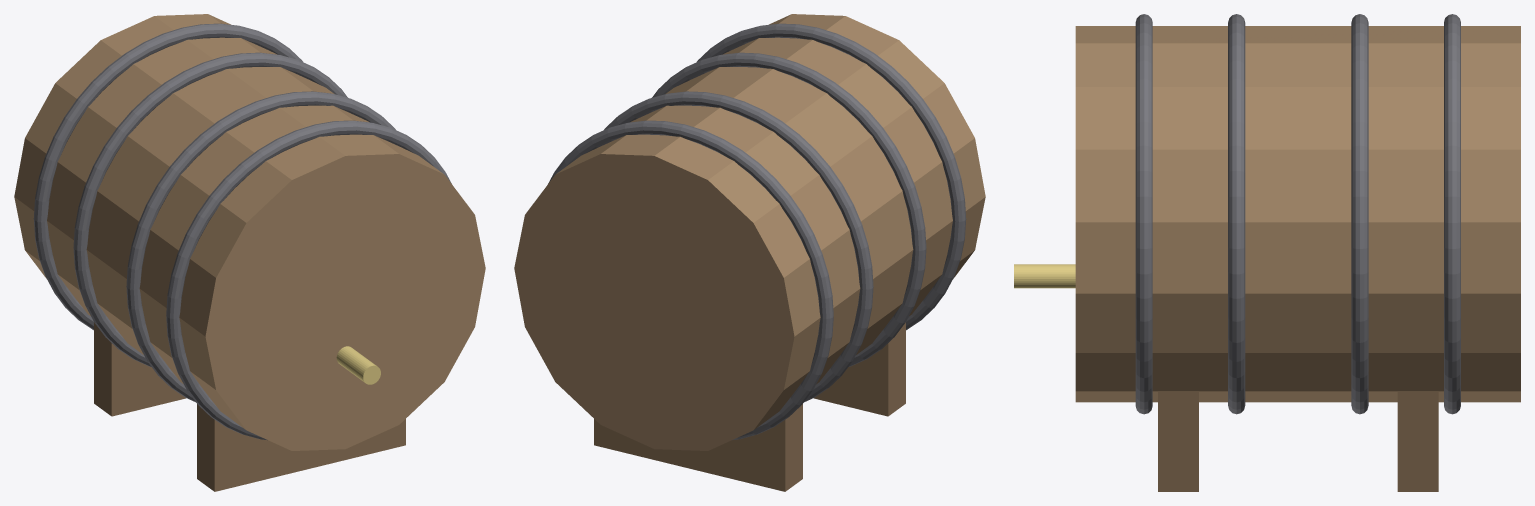
The model's file is water_cask.glb.
3 renders of one model, left to right at view 1: azimuth 30°, elevation 25°; view 2: azimuth 150°, elevation 25°; view 3: azimuth 270°, elevation 25°, orthographic. The views are drawn at different scales.
Visible parts, largest first — view 1: Cylinder, Torus, Torus.002, Torus.001, Torus.003, Cube, Cube.001, Cylinder.001; view 2: Cylinder, Torus.003, Torus.001, Torus.002, Torus, Cube.001, Cube; view 3: Cylinder, Torus, Torus.001, Torus.002, Torus.003, Cube.001, Cube, Cylinder.001.
Part boxes in pixels (x1,y1,x2,y2): Cylinder: [14, 14, 485, 450]; Torus: [166, 120, 451, 440]; Torus.002: [73, 52, 347, 366]; Torus.001: [126, 91, 395, 402]; Torus.003: [33, 23, 302, 330]; Cube: [197, 404, 405, 491]; Cube.001: [94, 322, 185, 416]; Cylinder.001: [336, 346, 380, 384]; Cylinder: [514, 14, 985, 450]; Torus.003: [548, 120, 833, 440]; Torus.001: [652, 52, 926, 366]; Torus.002: [604, 91, 873, 402]; Torus: [697, 23, 966, 330]; Cube.001: [594, 404, 802, 491]; Cube: [814, 322, 905, 416]; Cylinder: [1075, 26, 1520, 402]; Torus: [1135, 14, 1152, 414]; Torus.001: [1228, 14, 1245, 414]; Torus.002: [1351, 14, 1368, 414]; Torus.003: [1444, 14, 1460, 414]; Cube.001: [1397, 392, 1438, 491]; Cube: [1158, 392, 1198, 491]; Cylinder.001: [1014, 264, 1075, 288].
Size of the model in its own units: 1.17 by 1.31 by 1.48.
